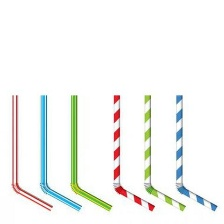drinking_straw: (169, 93, 222, 215), (106, 95, 158, 215), (65, 94, 117, 213), (138, 94, 188, 214), (36, 94, 84, 216), (7, 95, 55, 213)
